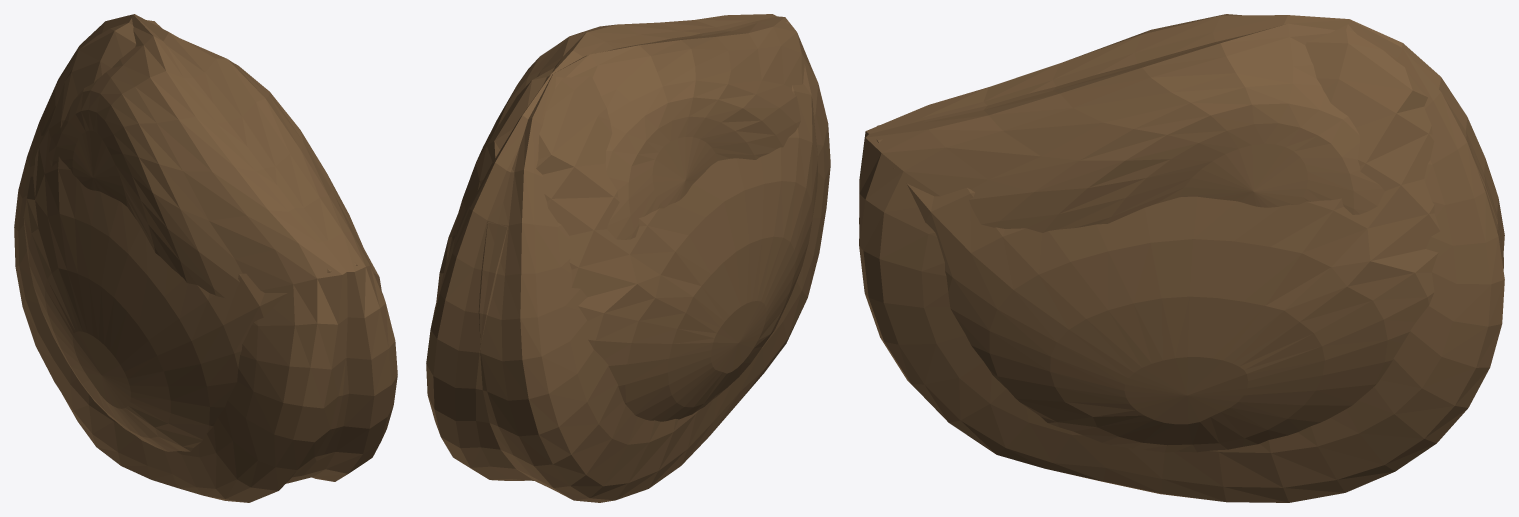
The model's file is proboscis_flybody.glb.
3 renders of one model, left to right at view 1: azimuth 30°, elevation 25°; view 2: azimuth 150°, elevation 25°; view 3: azimuth 270°, elevation 25°, orthographic. The views are drawn at different scales.
Visible parts, largest first — view 1: labrum_right_lower, labrum_left_lower; view 2: labrum_right_lower, labrum_left_lower; view 3: labrum_left_lower, labrum_right_lower.
Boxes of the visible parts, box(x1,y1,x2,y2) form: labrum_right_lower: box(14, 14, 381, 502); labrum_left_lower: box(23, 14, 397, 483); labrum_right_lower: box(436, 16, 830, 502); labrum_left_lower: box(426, 14, 817, 480); labrum_left_lower: box(859, 20, 1504, 502); labrum_right_lower: box(859, 14, 1504, 452).
Bounding box in the file's own units: 0.0113 × 0.0205 × 0.0261.
